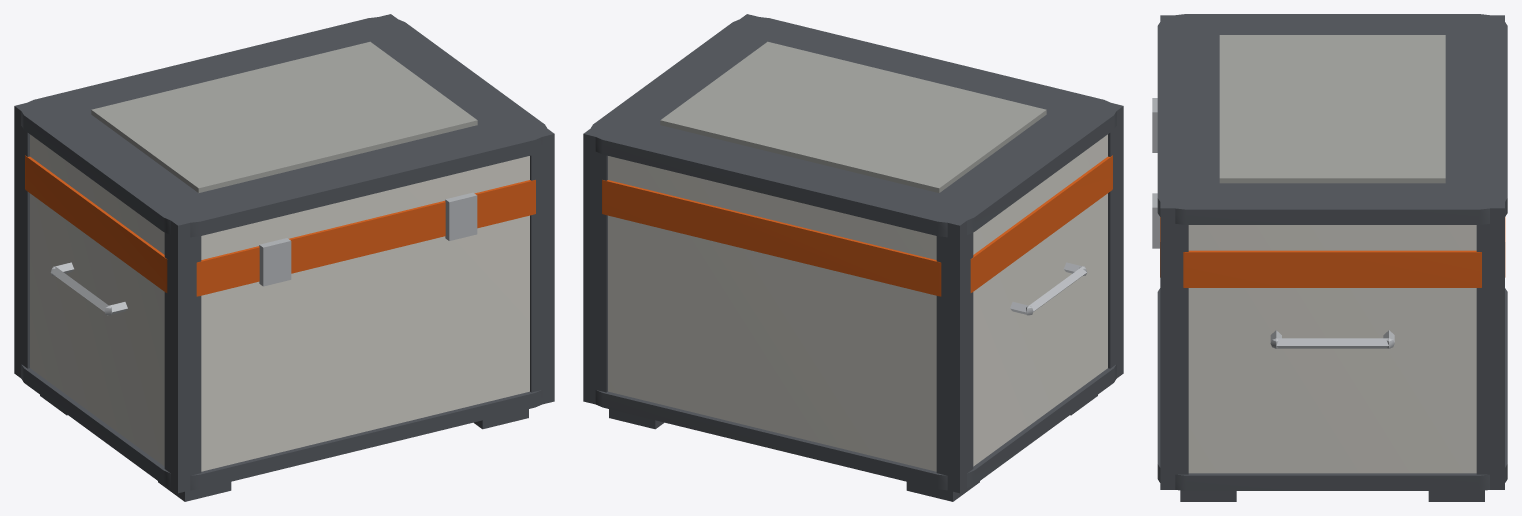
File: crate.glb
3 views of the same model, side by side, from view 1: azimuth 30°, elevation 25°; view 2: azimuth 150°, elevation 25°; view 3: azimuth 270°, elevation 25° (orthographic). The views are drawn at different scales.
Visible parts, largest first — view 1: body; view 2: body; view 3: body.
Boxes of the visible parts, x1,y1,x2,y2 form: body: (14,14,554,501); body: (583,14,1123,501); body: (1152,14,1507,501).
Bounding box in the file's own units: 0.8904 × 0.6 × 0.6295.
